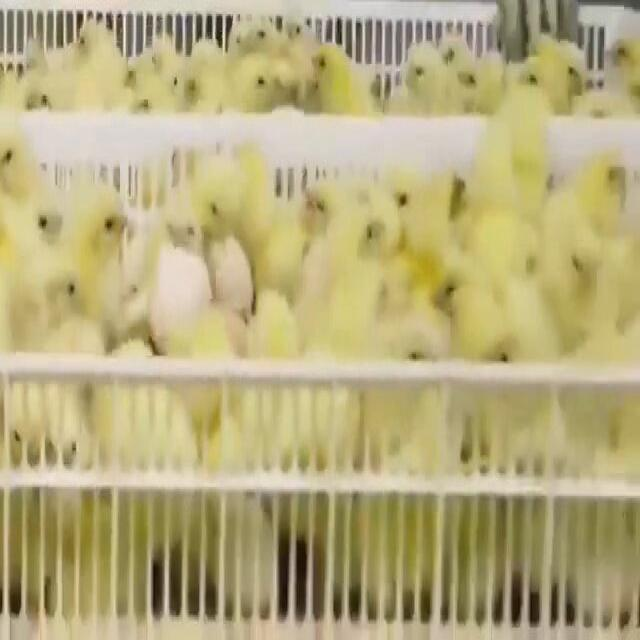chicks: (105, 401, 187, 473), (489, 131, 559, 199), (49, 383, 85, 485), (8, 378, 46, 472), (468, 328, 530, 383), (570, 342, 638, 390), (92, 200, 134, 276), (347, 278, 411, 326), (256, 225, 304, 289), (157, 202, 204, 267), (198, 178, 246, 238), (395, 328, 450, 378), (301, 181, 353, 233), (249, 304, 297, 360), (563, 223, 599, 296), (582, 168, 627, 225), (307, 38, 355, 86), (408, 48, 446, 108), (186, 325, 233, 373), (435, 262, 480, 310), (481, 222, 524, 272), (606, 42, 640, 99), (360, 212, 397, 262), (0, 135, 30, 194), (34, 199, 64, 257), (552, 50, 590, 95), (392, 176, 421, 231), (290, 62, 319, 113), (189, 66, 224, 107), (516, 54, 548, 98), (242, 63, 274, 107), (458, 66, 486, 116), (79, 26, 112, 63), (442, 39, 473, 76), (23, 81, 52, 115), (149, 37, 174, 74), (129, 52, 149, 92), (252, 21, 275, 55), (128, 97, 158, 120), (196, 37, 219, 65), (167, 60, 183, 97)
